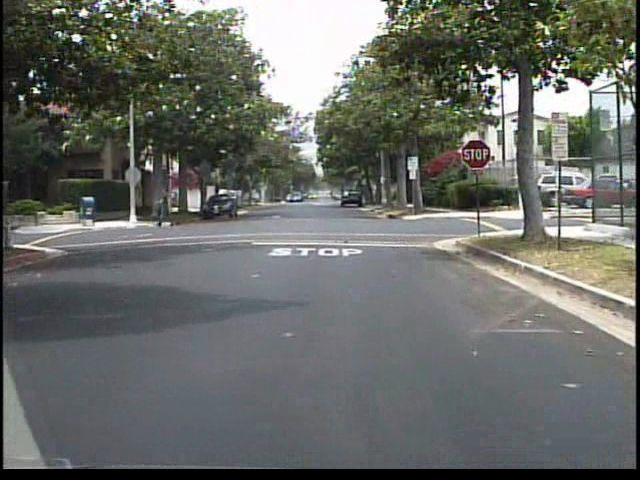person: (154, 180, 177, 230)
